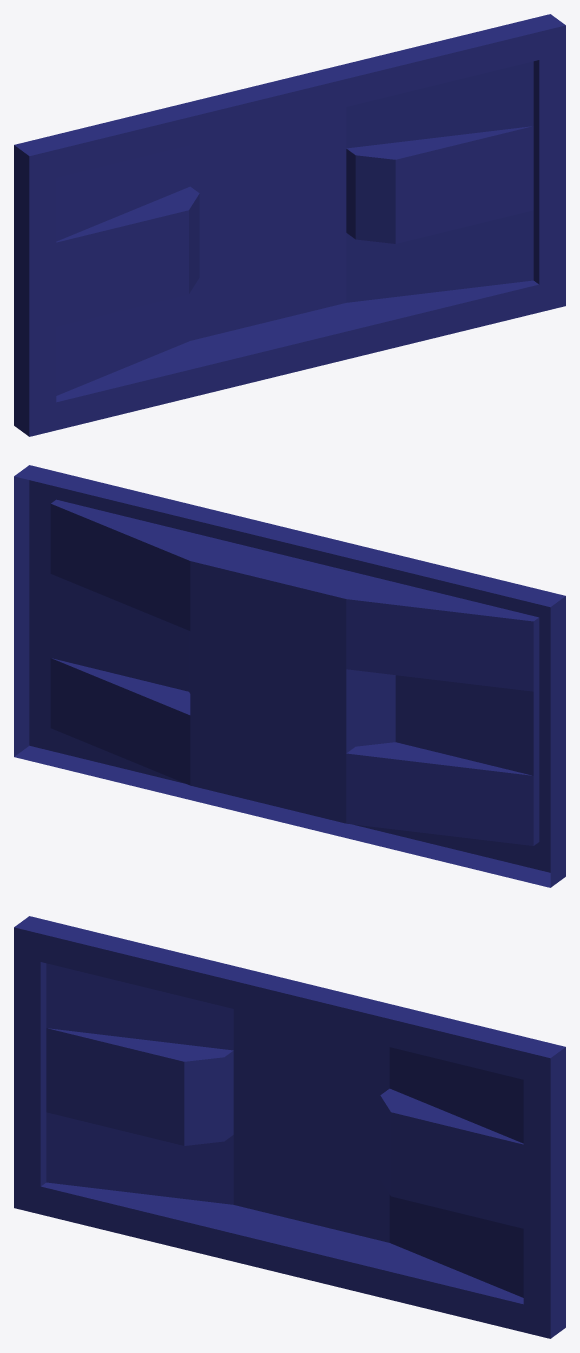
File: Wall_2x1m_A_Ex.FBX
The picture shows the model from 3 angles, top to bottom: view 1: azimuth 30°, elevation 25°; view 2: azimuth 150°, elevation 25°; view 3: azimuth 330°, elevation 25°; orthographic projection.
Visible parts, largest first — view 1: Wall_2x1m_A_Ex; view 2: Wall_2x1m_A_Ex; view 3: Wall_2x1m_A_Ex.
Part boxes in pixels (x1,y1,x2,y2): Wall_2x1m_A_Ex: (14,14,565,436); Wall_2x1m_A_Ex: (14,465,565,887); Wall_2x1m_A_Ex: (14,916,565,1338).
Size of the model in its own units: 200 by 100 by 19.
